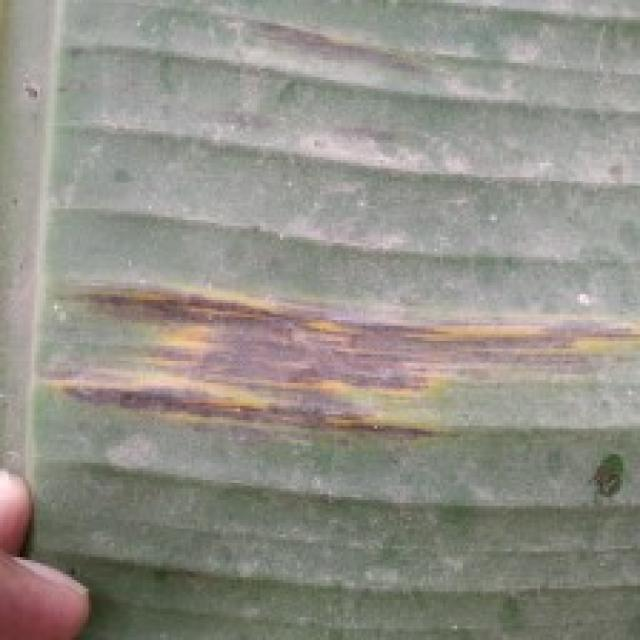Early_leaf_spot: (34, 264, 640, 469), (229, 14, 417, 83)
